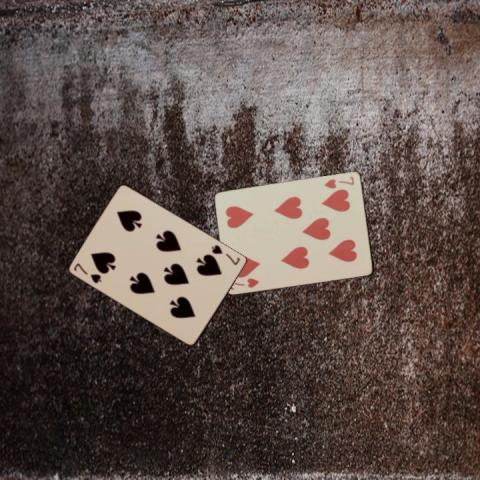7h: (322, 173, 356, 190), (227, 274, 260, 290)
7s: (208, 241, 241, 267), (71, 260, 103, 285)
